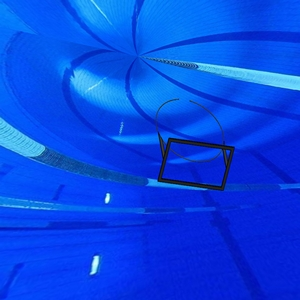circle: (154, 98, 236, 194)
